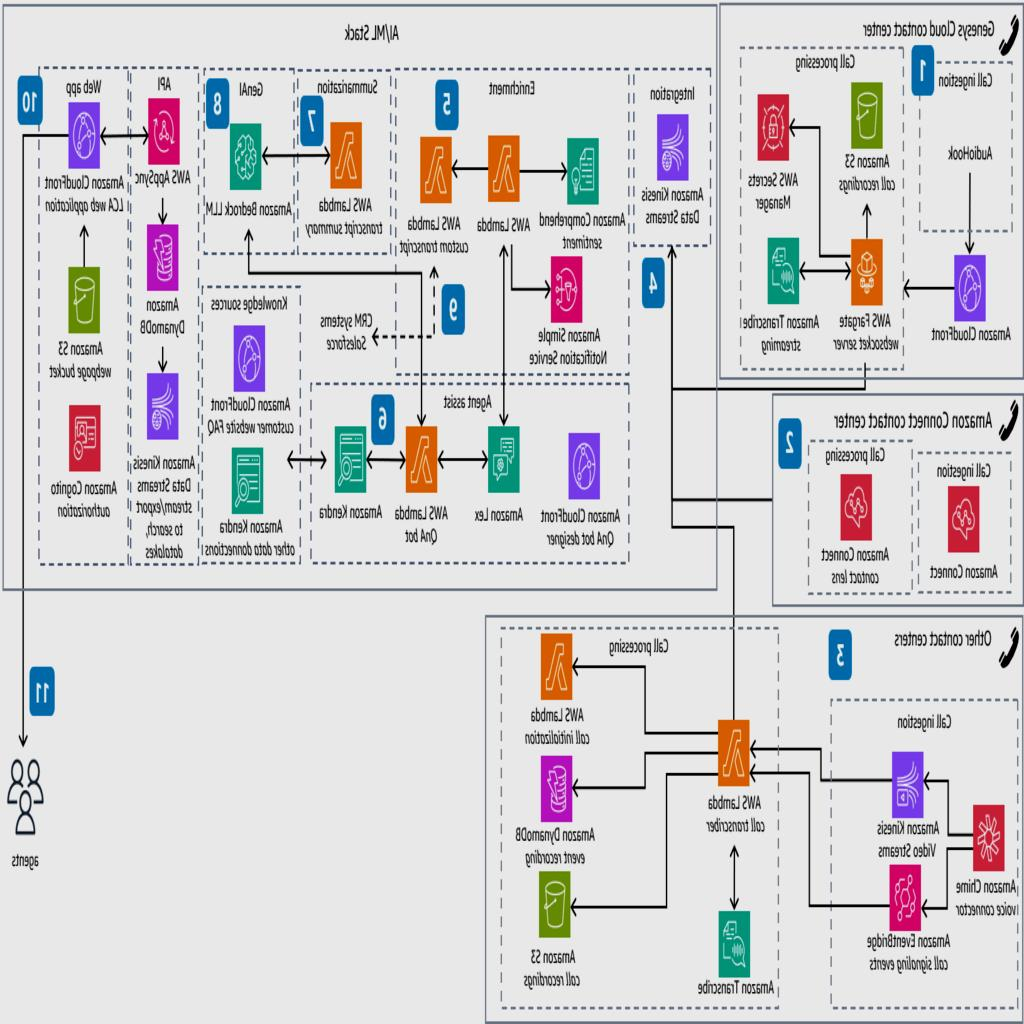actor: (5, 752, 48, 844), (408, 504, 452, 571), (654, 798, 698, 865), (943, 474, 986, 540)
api_gateway: (144, 94, 188, 162), (64, 102, 108, 168), (230, 316, 272, 384), (564, 428, 607, 494), (950, 247, 992, 314)
compute: (326, 120, 370, 187), (226, 120, 270, 187), (144, 371, 188, 438), (536, 630, 580, 697), (886, 862, 929, 930), (406, 136, 450, 202), (851, 247, 894, 314), (886, 750, 929, 817), (714, 910, 756, 978), (478, 136, 521, 202), (332, 428, 375, 494), (752, 238, 794, 305), (714, 719, 756, 786), (486, 428, 528, 494), (402, 428, 444, 494), (230, 446, 272, 512), (834, 474, 876, 540)
data_flow: (40, 146, 46, 730), (578, 386, 868, 392), (672, 130, 676, 386), (426, 123, 430, 328), (870, 754, 875, 908), (968, 142, 974, 264), (732, 799, 738, 901), (614, 522, 734, 527), (864, 146, 869, 260), (868, 332, 873, 446), (770, 162, 776, 244), (696, 504, 774, 510), (84, 169, 88, 261), (248, 384, 254, 445), (275, 458, 331, 464), (164, 286, 168, 368), (522, 166, 576, 172), (568, 195, 573, 256), (367, 325, 428, 330), (84, 332, 88, 404), (894, 278, 950, 283), (796, 269, 852, 274), (269, 151, 325, 156), (656, 750, 712, 755), (656, 781, 712, 786), (444, 458, 488, 464), (732, 504, 738, 545), (164, 164, 168, 225), (656, 904, 712, 908), (756, 750, 800, 755), (580, 661, 624, 666), (580, 781, 624, 786), (187, 132, 223, 138), (107, 132, 143, 138), (530, 458, 566, 464), (512, 282, 548, 287), (448, 166, 478, 172), (369, 151, 405, 156), (756, 904, 800, 908), (580, 904, 624, 908), (374, 458, 400, 464), (22, 726, 48, 732), (860, 750, 885, 755), (794, 126, 820, 130), (860, 904, 885, 908)
database_storage: (536, 872, 580, 940), (536, 750, 580, 817), (144, 218, 188, 284), (64, 266, 108, 332), (845, 83, 888, 150)
network_security: (64, 405, 108, 472), (549, 251, 592, 318), (752, 94, 794, 162)
trust_boundary: (488, 604, 1023, 1024), (171, 384, 720, 620), (720, 2, 1021, 377), (500, 632, 780, 996), (312, 356, 626, 592), (402, 62, 626, 390), (829, 660, 1022, 1024), (774, 361, 1024, 632), (40, 196, 132, 590), (201, 252, 301, 592), (134, 196, 198, 590), (201, 61, 301, 256), (40, 61, 132, 256), (308, 61, 398, 256), (134, 61, 198, 256)
